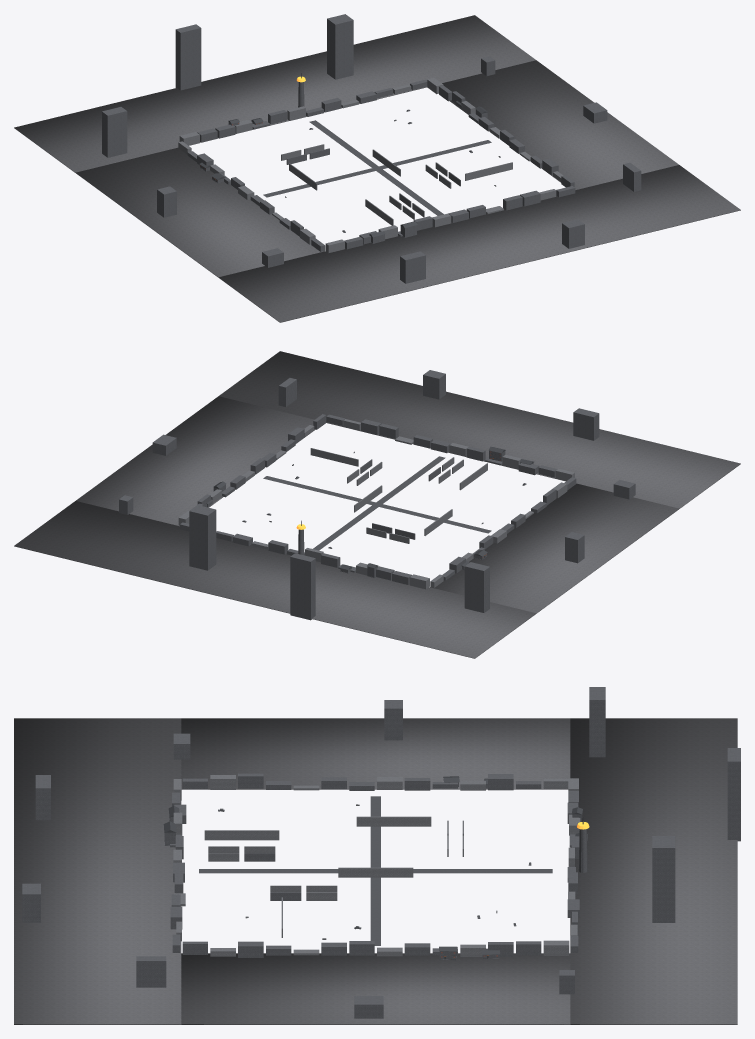
3 renders of one model, top to bottom at view 1: azimuth 30°, elevation 25°; view 2: azimuth 150°, elevation 25°; view 3: azimuth 270°, elevation 25°, orthographic. The views are drawn at different scales.
Parts seen in each view (by area): view 1: HB_z01_LOD2_terrain, HB_z01_LOD2_wall_alt, HB_z01_LOD2_wall, HB_z01_LOD2_road; view 2: HB_z01_LOD2_terrain, HB_z01_LOD2_wall_alt, HB_z01_LOD2_wall, HB_z01_LOD2_road; view 3: HB_z01_LOD2_terrain, HB_z01_LOD2_wall_alt, HB_z01_LOD2_wall, HB_z01_LOD2_road, HB_z01_LOD2_trim.
Part boxes in pixels (x1,y1,x2,y2): HB_z01_LOD2_terrain: (14, 15, 740, 322); HB_z01_LOD2_wall_alt: (102, 14, 641, 283); HB_z01_LOD2_wall: (178, 78, 563, 252); HB_z01_LOD2_road: (263, 120, 491, 215); HB_z01_LOD2_terrain: (14, 351, 740, 658); HB_z01_LOD2_wall_alt: (119, 370, 635, 620); HB_z01_LOD2_wall: (178, 419, 574, 589); HB_z01_LOD2_road: (263, 456, 491, 550); HB_z01_LOD2_terrain: (14, 718, 737, 1024); HB_z01_LOD2_wall_alt: (22, 687, 740, 1018); HB_z01_LOD2_wall: (173, 775, 580, 956); HB_z01_LOD2_road: (199, 796, 552, 945); HB_z01_LOD2_trim: (163, 776, 587, 959).
Size of the model in its own units: 562 by 68.14 by 565.
Materials: 9 (7 with a texture image).
